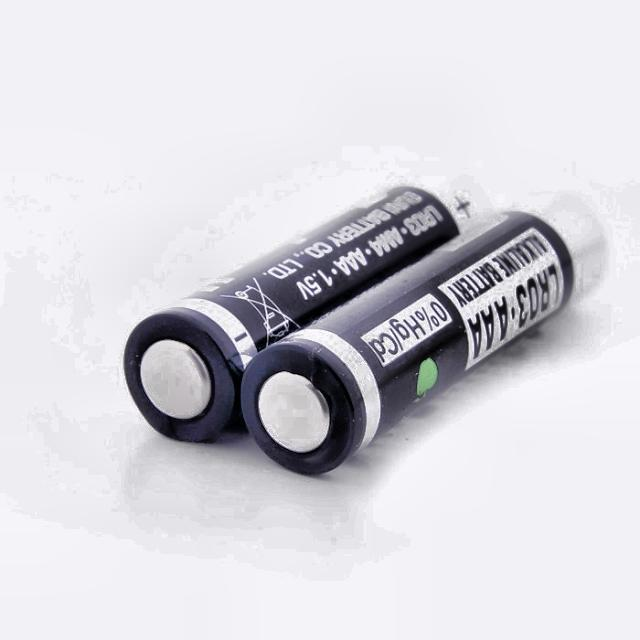battery: (240, 214, 572, 475), (125, 189, 457, 442)
